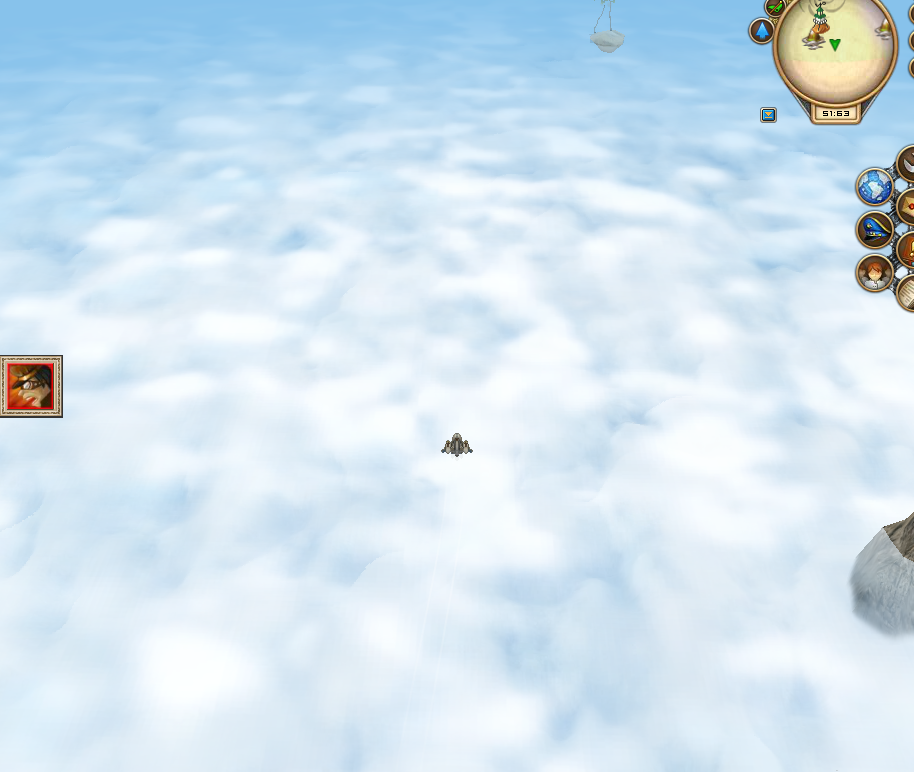palm: (584, 0, 628, 55)
